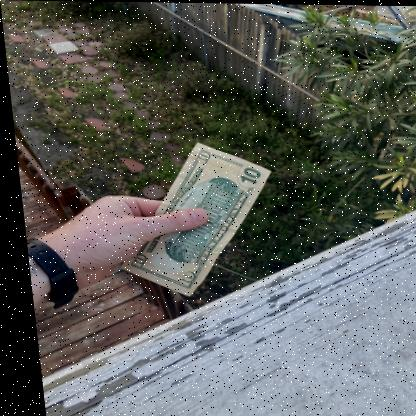ten-back: (116, 142, 274, 295)
